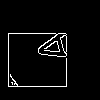A: (25, 25, 77, 70)
